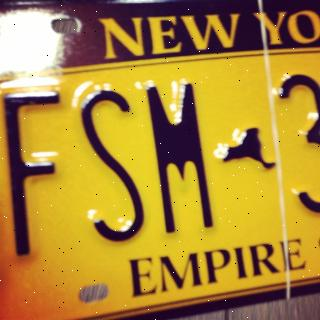license: (1, 3, 320, 319)
